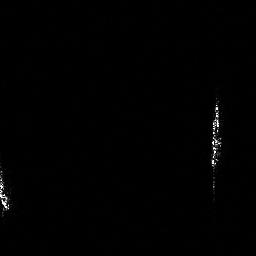ship: (211, 93, 223, 204), (1, 166, 12, 218)
